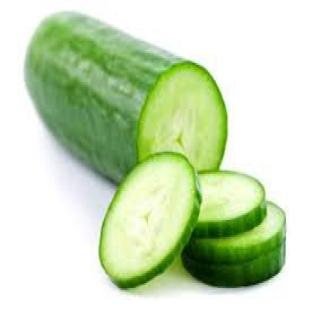Cucumber: (25, 12, 227, 180), (100, 154, 201, 288), (185, 202, 285, 264), (194, 171, 265, 236), (182, 243, 285, 286)
